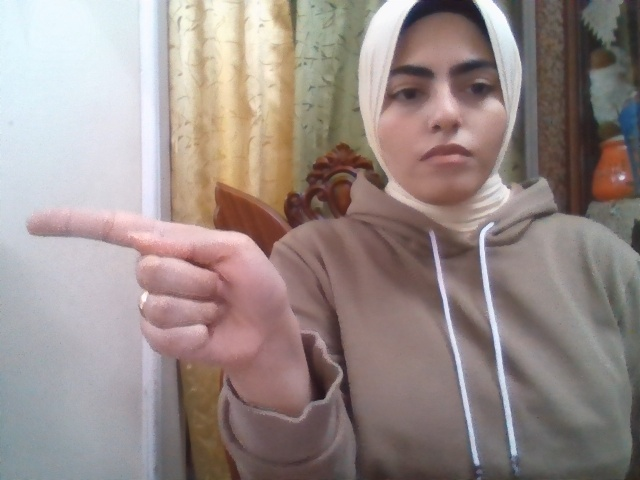G: (26, 207, 289, 367)
